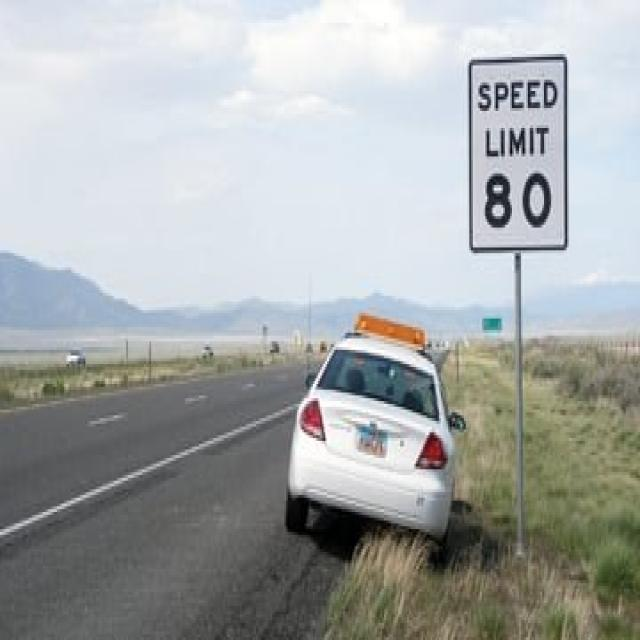speedLimit80: (465, 57, 566, 256)
